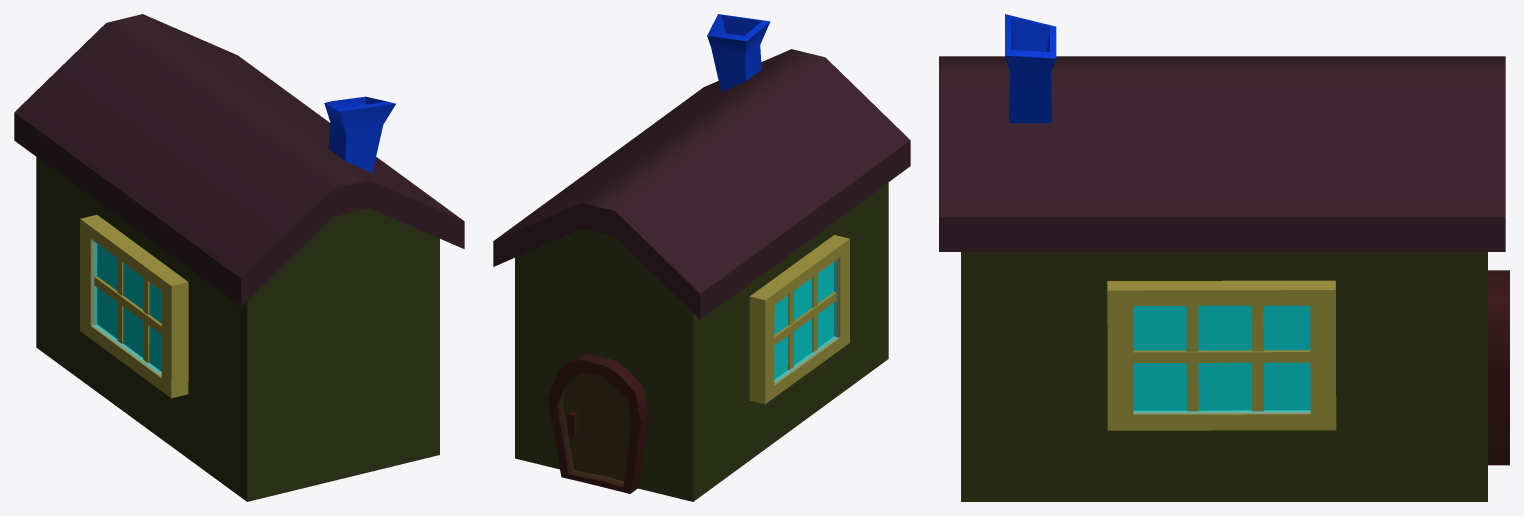
Rendered from M_House_01_No_Mat.fbx.
3 renders of one model, left to right at view 1: azimuth 30°, elevation 25°; view 2: azimuth 150°, elevation 25°; view 3: azimuth 270°, elevation 25°, orthographic. The views are drawn at different scales.
Visible parts, largest first — view 1: Lil_House_1; view 2: Lil_House_1; view 3: Lil_House_1.
Part boxes in pixels (x1=…): Lil_House_1: x1=14, y1=14, x2=464, y2=501; Lil_House_1: x1=493, y1=14, x2=910, y2=501; Lil_House_1: x1=939, y1=14, x2=1509, y2=501.
Size of the model in its own units: 4.98 by 7.4 by 8.74.
